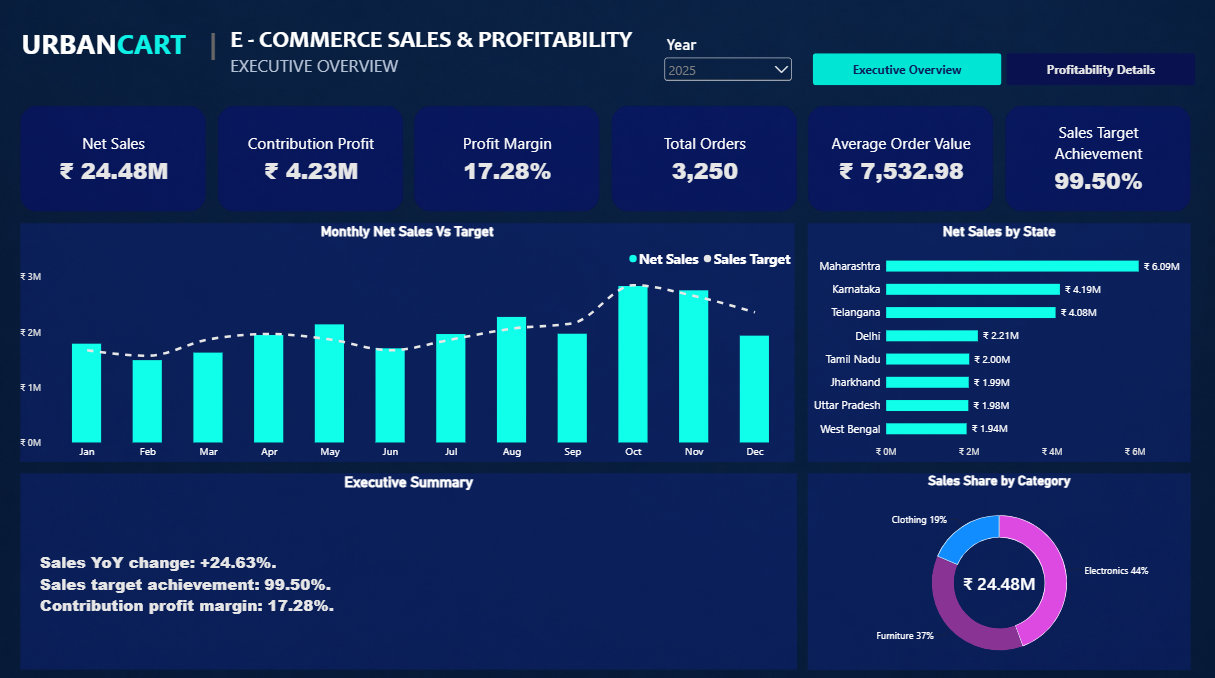

The dashboard page shown, as its layout file describes it:
{"tool":"powerbi","page":{"name":"Executive Overview","canvas":[1920,1080],"ordinal":0},"visuals":[{"type":"textbox","box":[371.1,42.2,928.9,86.7],"z":0},{"type":"textbox","box":[42.2,42.2,362.2,128.9],"z":1000},{"type":"textbox","box":[370.9,89.1,400,81.8],"z":2000},{"type":"slicer","fields":{"Values":["Months.Year"]},"box":[1046.7,60,208.9,80],"z":3000},{"type":"cardVisual","fields":{"Data":["Sales.Net Sales"]},"box":[41.7,170.8,291.1,166.7],"z":4000},{"type":"cardVisual","fields":{"Data":["Sales.Contribution Profit"]},"box":[350.4,170.8,291.1,166.7],"z":5000},{"type":"cardVisual","fields":{"Data":["Sales.Profit Margin"]},"box":[659.2,170.8,291.1,166.7],"z":6000},{"type":"cardVisual","fields":{"Data":["Sales.Total Orders"]},"box":[967.9,170.8,291.1,166.7],"z":7000},{"type":"cardVisual","fields":{"Data":["Sales.Sales Target Achievement"]},"box":[1585.4,170.8,291.1,166.7],"z":8000},{"type":"cardVisual","fields":{"Data":["Sales.Average Order Value"]},"box":[1276.7,170.8,291.1,166.7],"z":9000},{"type":"lineClusteredColumnComboChart","title":"Monthly Net Sales Vs Target","fields":{"Category":["Months.MonthName"],"Y":["Sales.Net Sales"],"Y2":["Sales.Sales Target"]},"box":[41.2,354,1214.4,374.6],"z":10000},{"type":"clusteredBarChart","fields":{"Category":["States.State"],"Y":["Sales.Net Sales"]},"box":[1276.2,354,601,374.6],"z":11000},{"type":"donutChart","title":"Sales Share by Category","fields":{"Category":["Categories.Category"],"Y":["Sales.Net Sales"]},"box":[1276.2,747.2,601,308.7],"z":12000},{"type":"cardVisual","title":"Executive Summary","fields":{"Data":["Sales.Executive Summary"]},"box":[41.7,747.9,1218.8,308.3],"z":13000},{"type":"pageNavigator","box":[1284.8,89.1,600,50],"z":14000}]}

Visuals, with their boxes in screenshot pixels (x1, y1, x2, y2), scaled from the page's 1920x1080 canvas onto the 1215x678 screenshot:
textbox: <region>235, 26, 823, 81</region>
textbox: <region>27, 26, 256, 107</region>
textbox: <region>235, 56, 488, 107</region>
slicer - Months.Year: <region>662, 38, 795, 88</region>
cardVisual - Sales.Net Sales: <region>26, 107, 211, 212</region>
cardVisual - Sales.Contribution Profit: <region>222, 107, 406, 212</region>
cardVisual - Sales.Profit Margin: <region>417, 107, 601, 212</region>
cardVisual - Sales.Total Orders: <region>612, 107, 797, 212</region>
cardVisual - Sales.Sales Target Achievement: <region>1003, 107, 1187, 212</region>
cardVisual - Sales.Average Order Value: <region>808, 107, 992, 212</region>
"Monthly Net Sales Vs Target" lineClusteredColumnComboChart: <region>26, 222, 795, 457</region>
clusteredBarChart - States.State x Sales.Net Sales: <region>808, 222, 1188, 457</region>
"Sales Share by Category" donutChart: <region>808, 469, 1188, 663</region>
"Executive Summary" cardVisual: <region>26, 470, 798, 663</region>
pageNavigator: <region>813, 56, 1193, 87</region>
